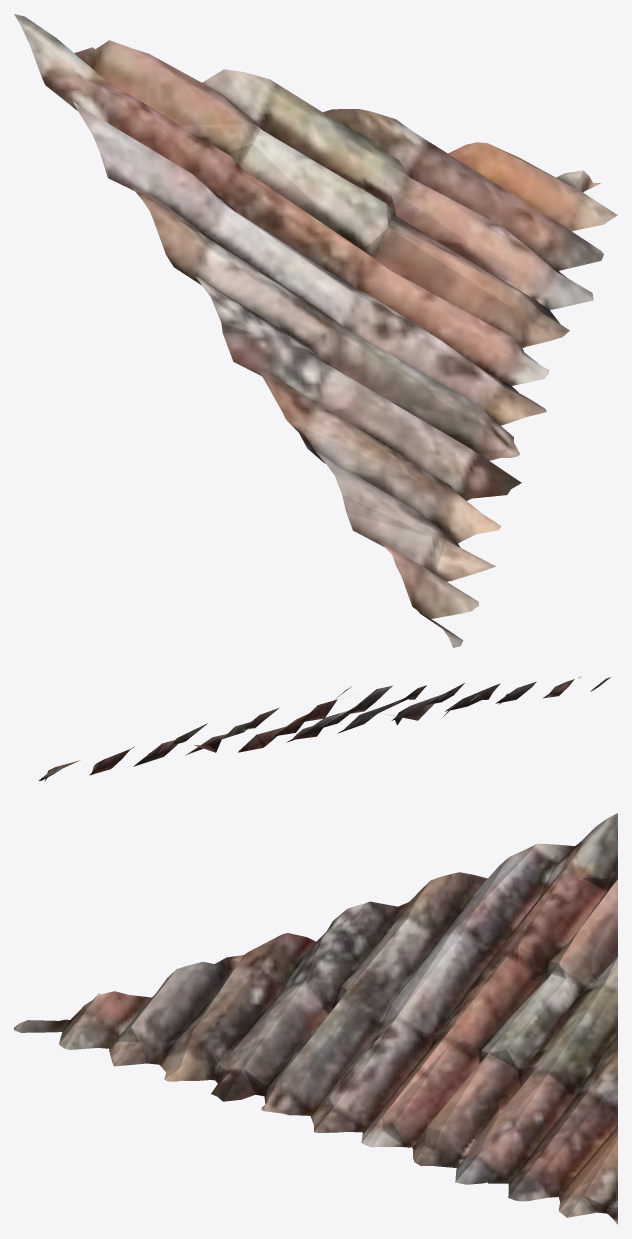
3 views of the same model, one above another, from view 1: azimuth 30°, elevation 25°; view 2: azimuth 150°, elevation 25°; view 3: azimuth 270°, elevation 25° (orthographic). The views are drawn at different scales.
Size of the model in its own units: 1.51 by 0.7667 by 1.95.
1 material, 1 textured.
